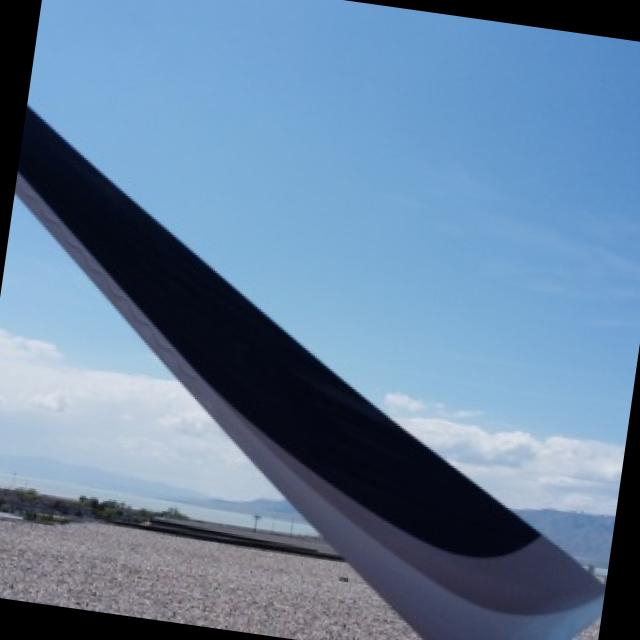healthy: (17, 109, 604, 640), (0, 198, 276, 521)
